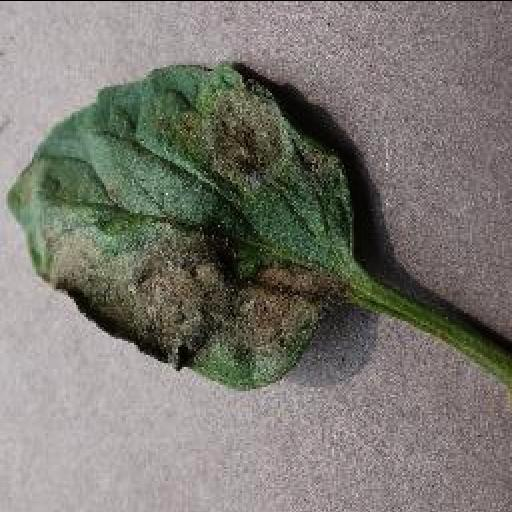disease_tomato: (2, 58, 354, 392)
